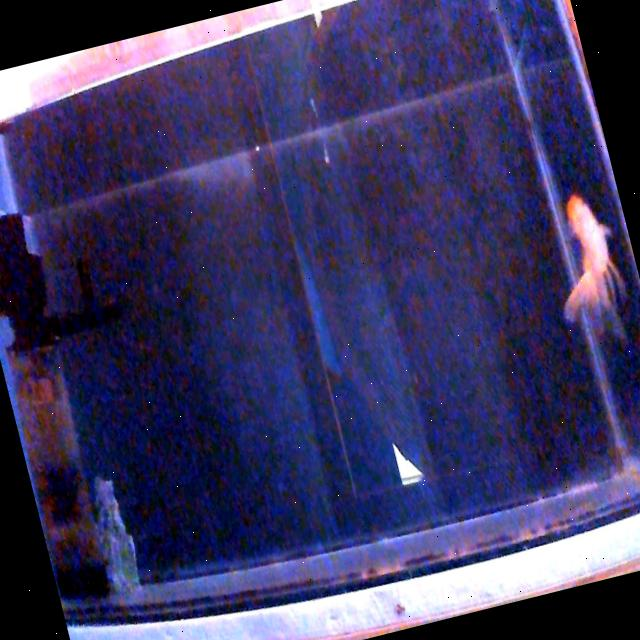fish: (536, 185, 634, 338)
